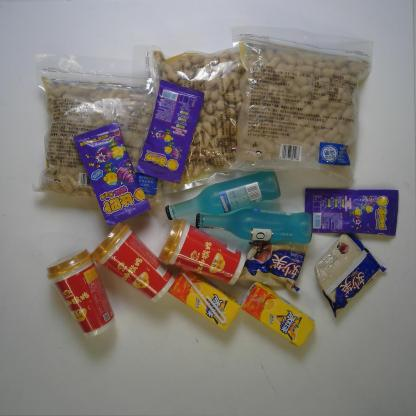Alcohol: (164, 168, 282, 221), (194, 206, 316, 246)
Candy: (71, 120, 153, 229), (134, 78, 206, 185), (302, 186, 400, 238)
Dessert: (312, 232, 388, 319), (235, 238, 310, 294)
Dried Food: (222, 24, 375, 182), (30, 51, 167, 222), (128, 43, 245, 197)
Drink: (238, 281, 316, 349), (166, 267, 243, 333)
Instant Drink: (89, 220, 176, 305), (44, 245, 117, 341), (157, 216, 247, 286)
